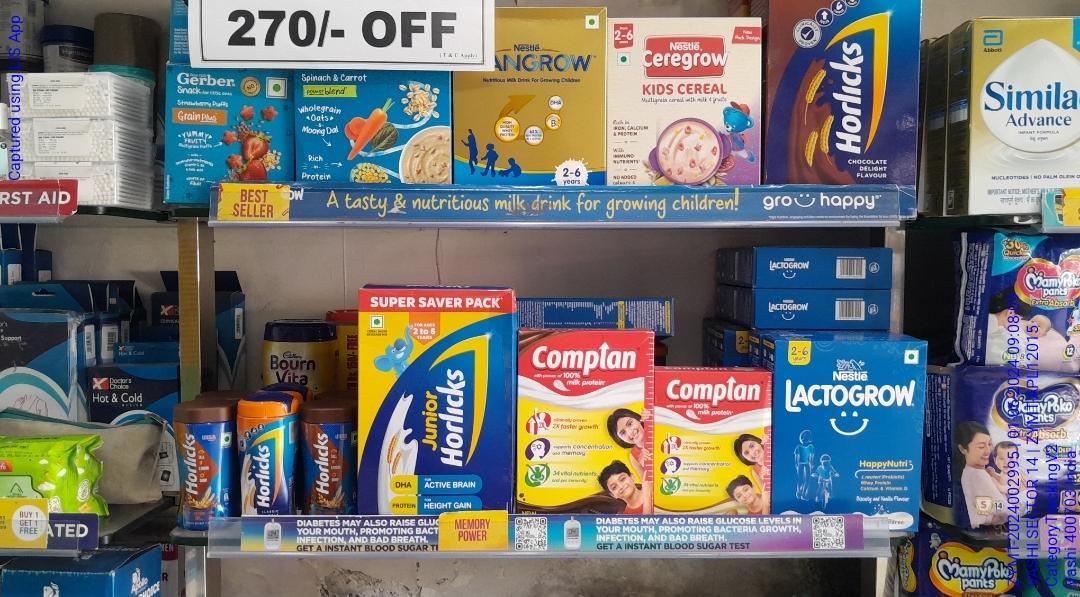COMPLAN_CHOCOLATE_500_GMS_PACK: (517, 328, 652, 519)
COMPLAN_KESAR_BADAM_200_GMS_PACK: (657, 368, 771, 517)
HORLICK_CHOCOLATE_200_G_JAR: (175, 397, 233, 529), (303, 405, 355, 514)
HORLICK_CLASSIC_MALT_200_G_JAR: (237, 391, 297, 522)
